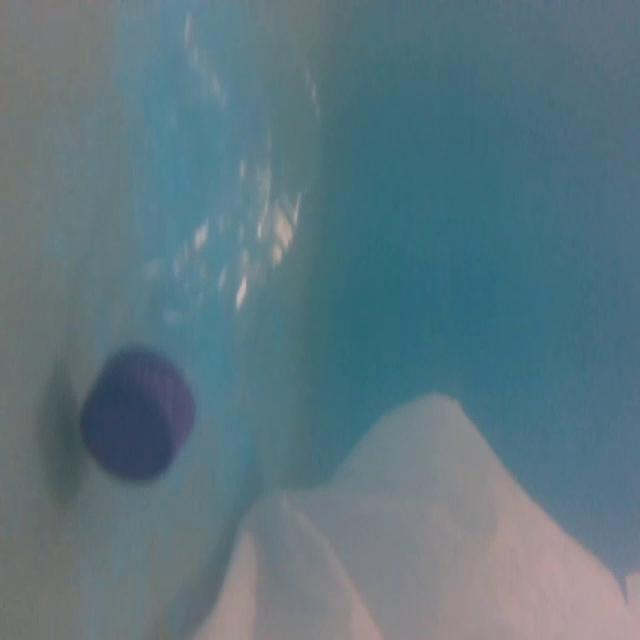plastic bags: (140, 367, 640, 640)
plastic bottle: (78, 0, 354, 504)
